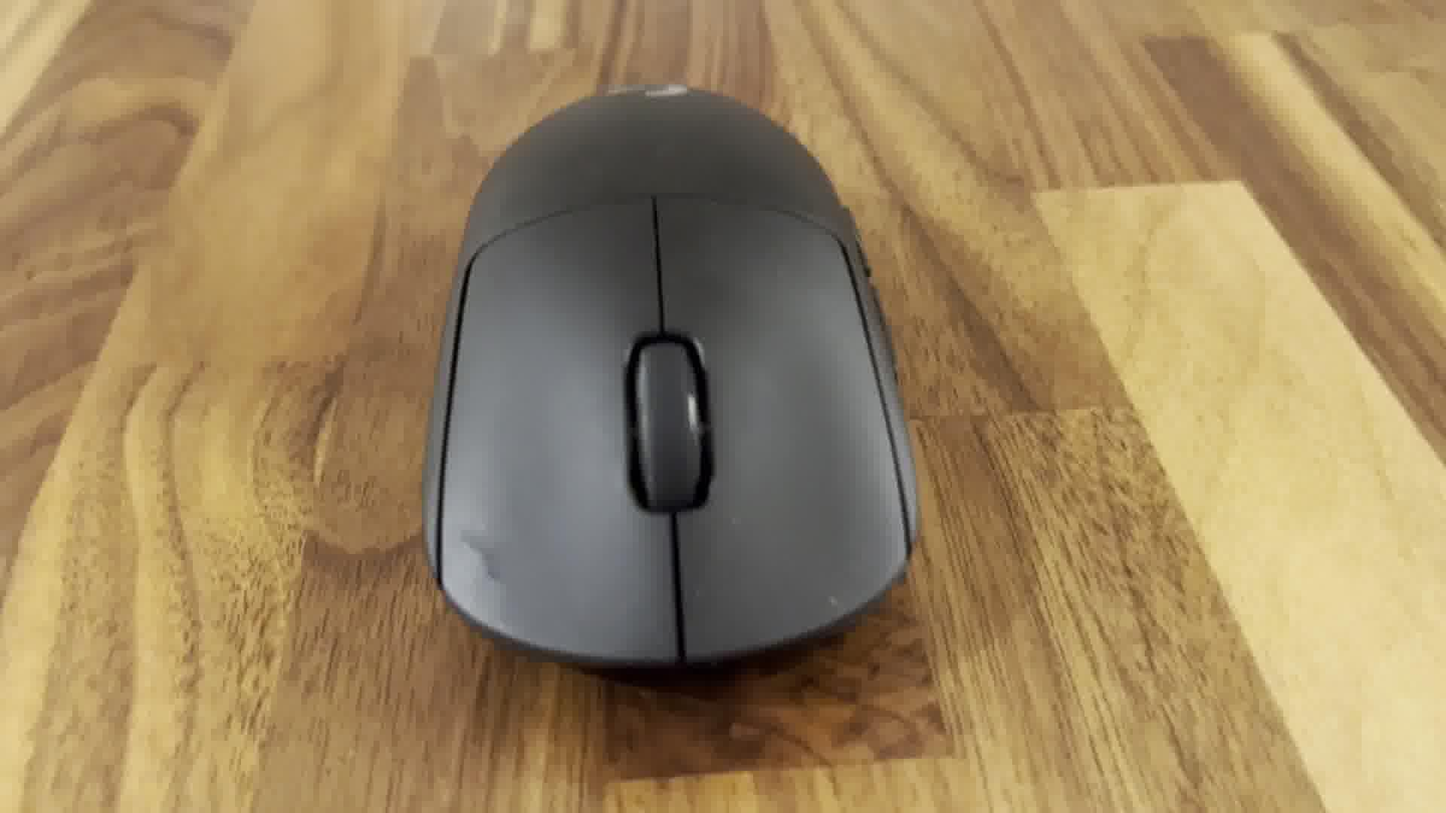mouse: (418, 77, 924, 677)
